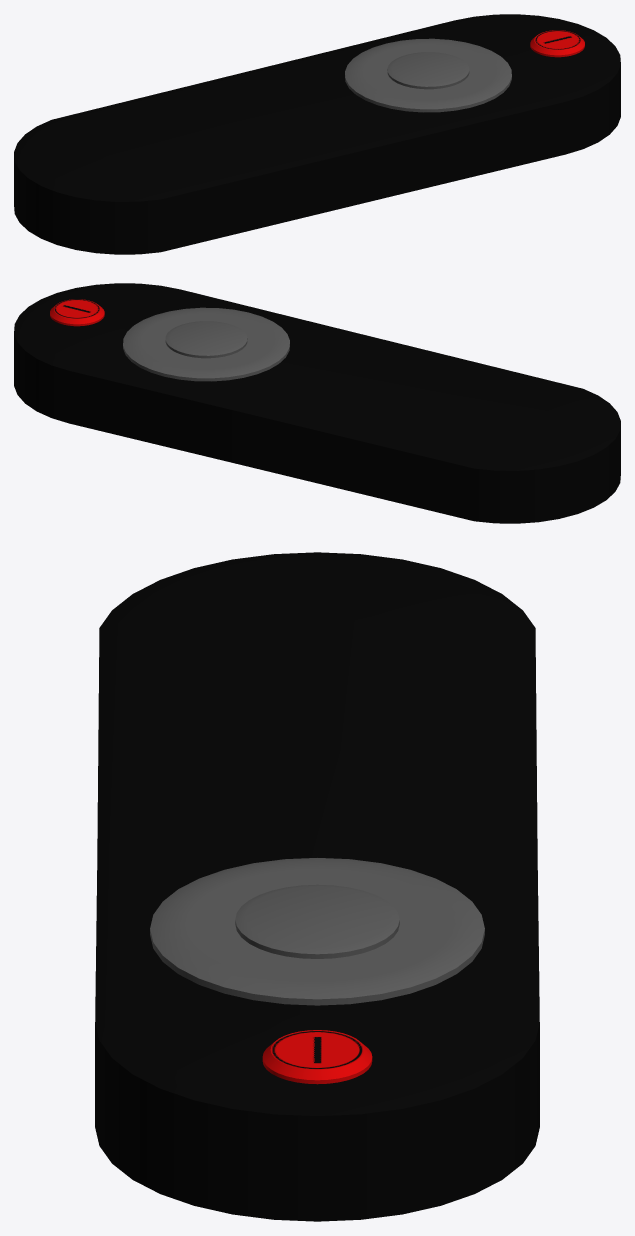
Rendered from Elec_tv remote.fbx.
The picture shows the model from 3 angles, top to bottom: view 1: azimuth 30°, elevation 25°; view 2: azimuth 150°, elevation 25°; view 3: azimuth 270°, elevation 25°; orthographic projection. The views are drawn at different scales.
Parts seen in each view (by area): view 1: Cylinder.002; view 2: Cylinder.002; view 3: Cylinder.002.
Boxes of the visible parts, x1=… form: Cylinder.002: x1=14, y1=14, x2=620, y2=254; Cylinder.002: x1=14, y1=283, x2=620, y2=523; Cylinder.002: x1=95, y1=552, x2=539, y2=1221.
Bounding box in the file's own units: 600 × 68.89 × 200.
